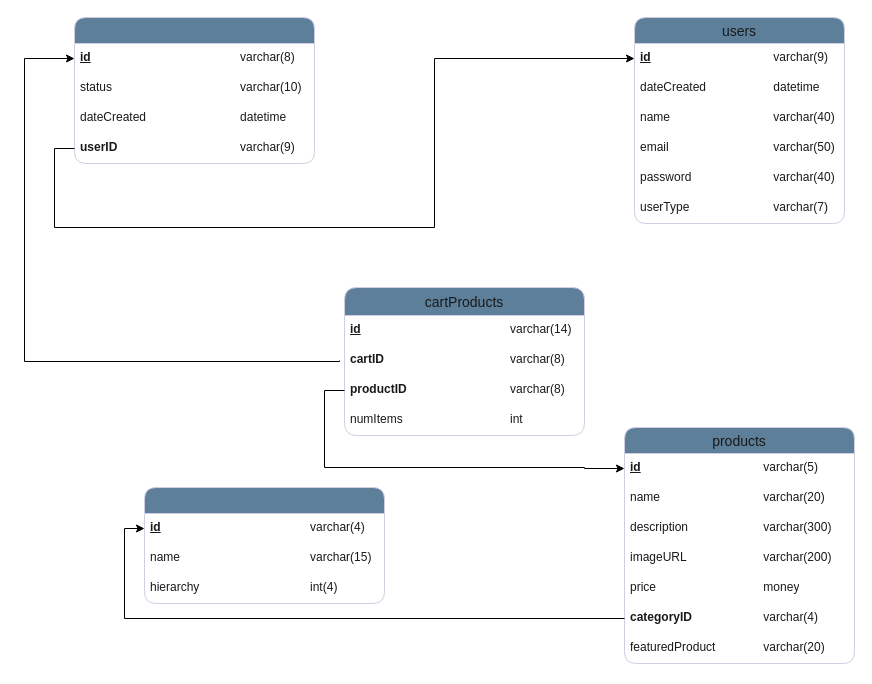
Some shapes in this 872 by 684 pixel diagram are drawn without their labels. Each missing label, with the box of its shape:
cart: (74, 16, 314, 164)
categories: (144, 486, 384, 604)
